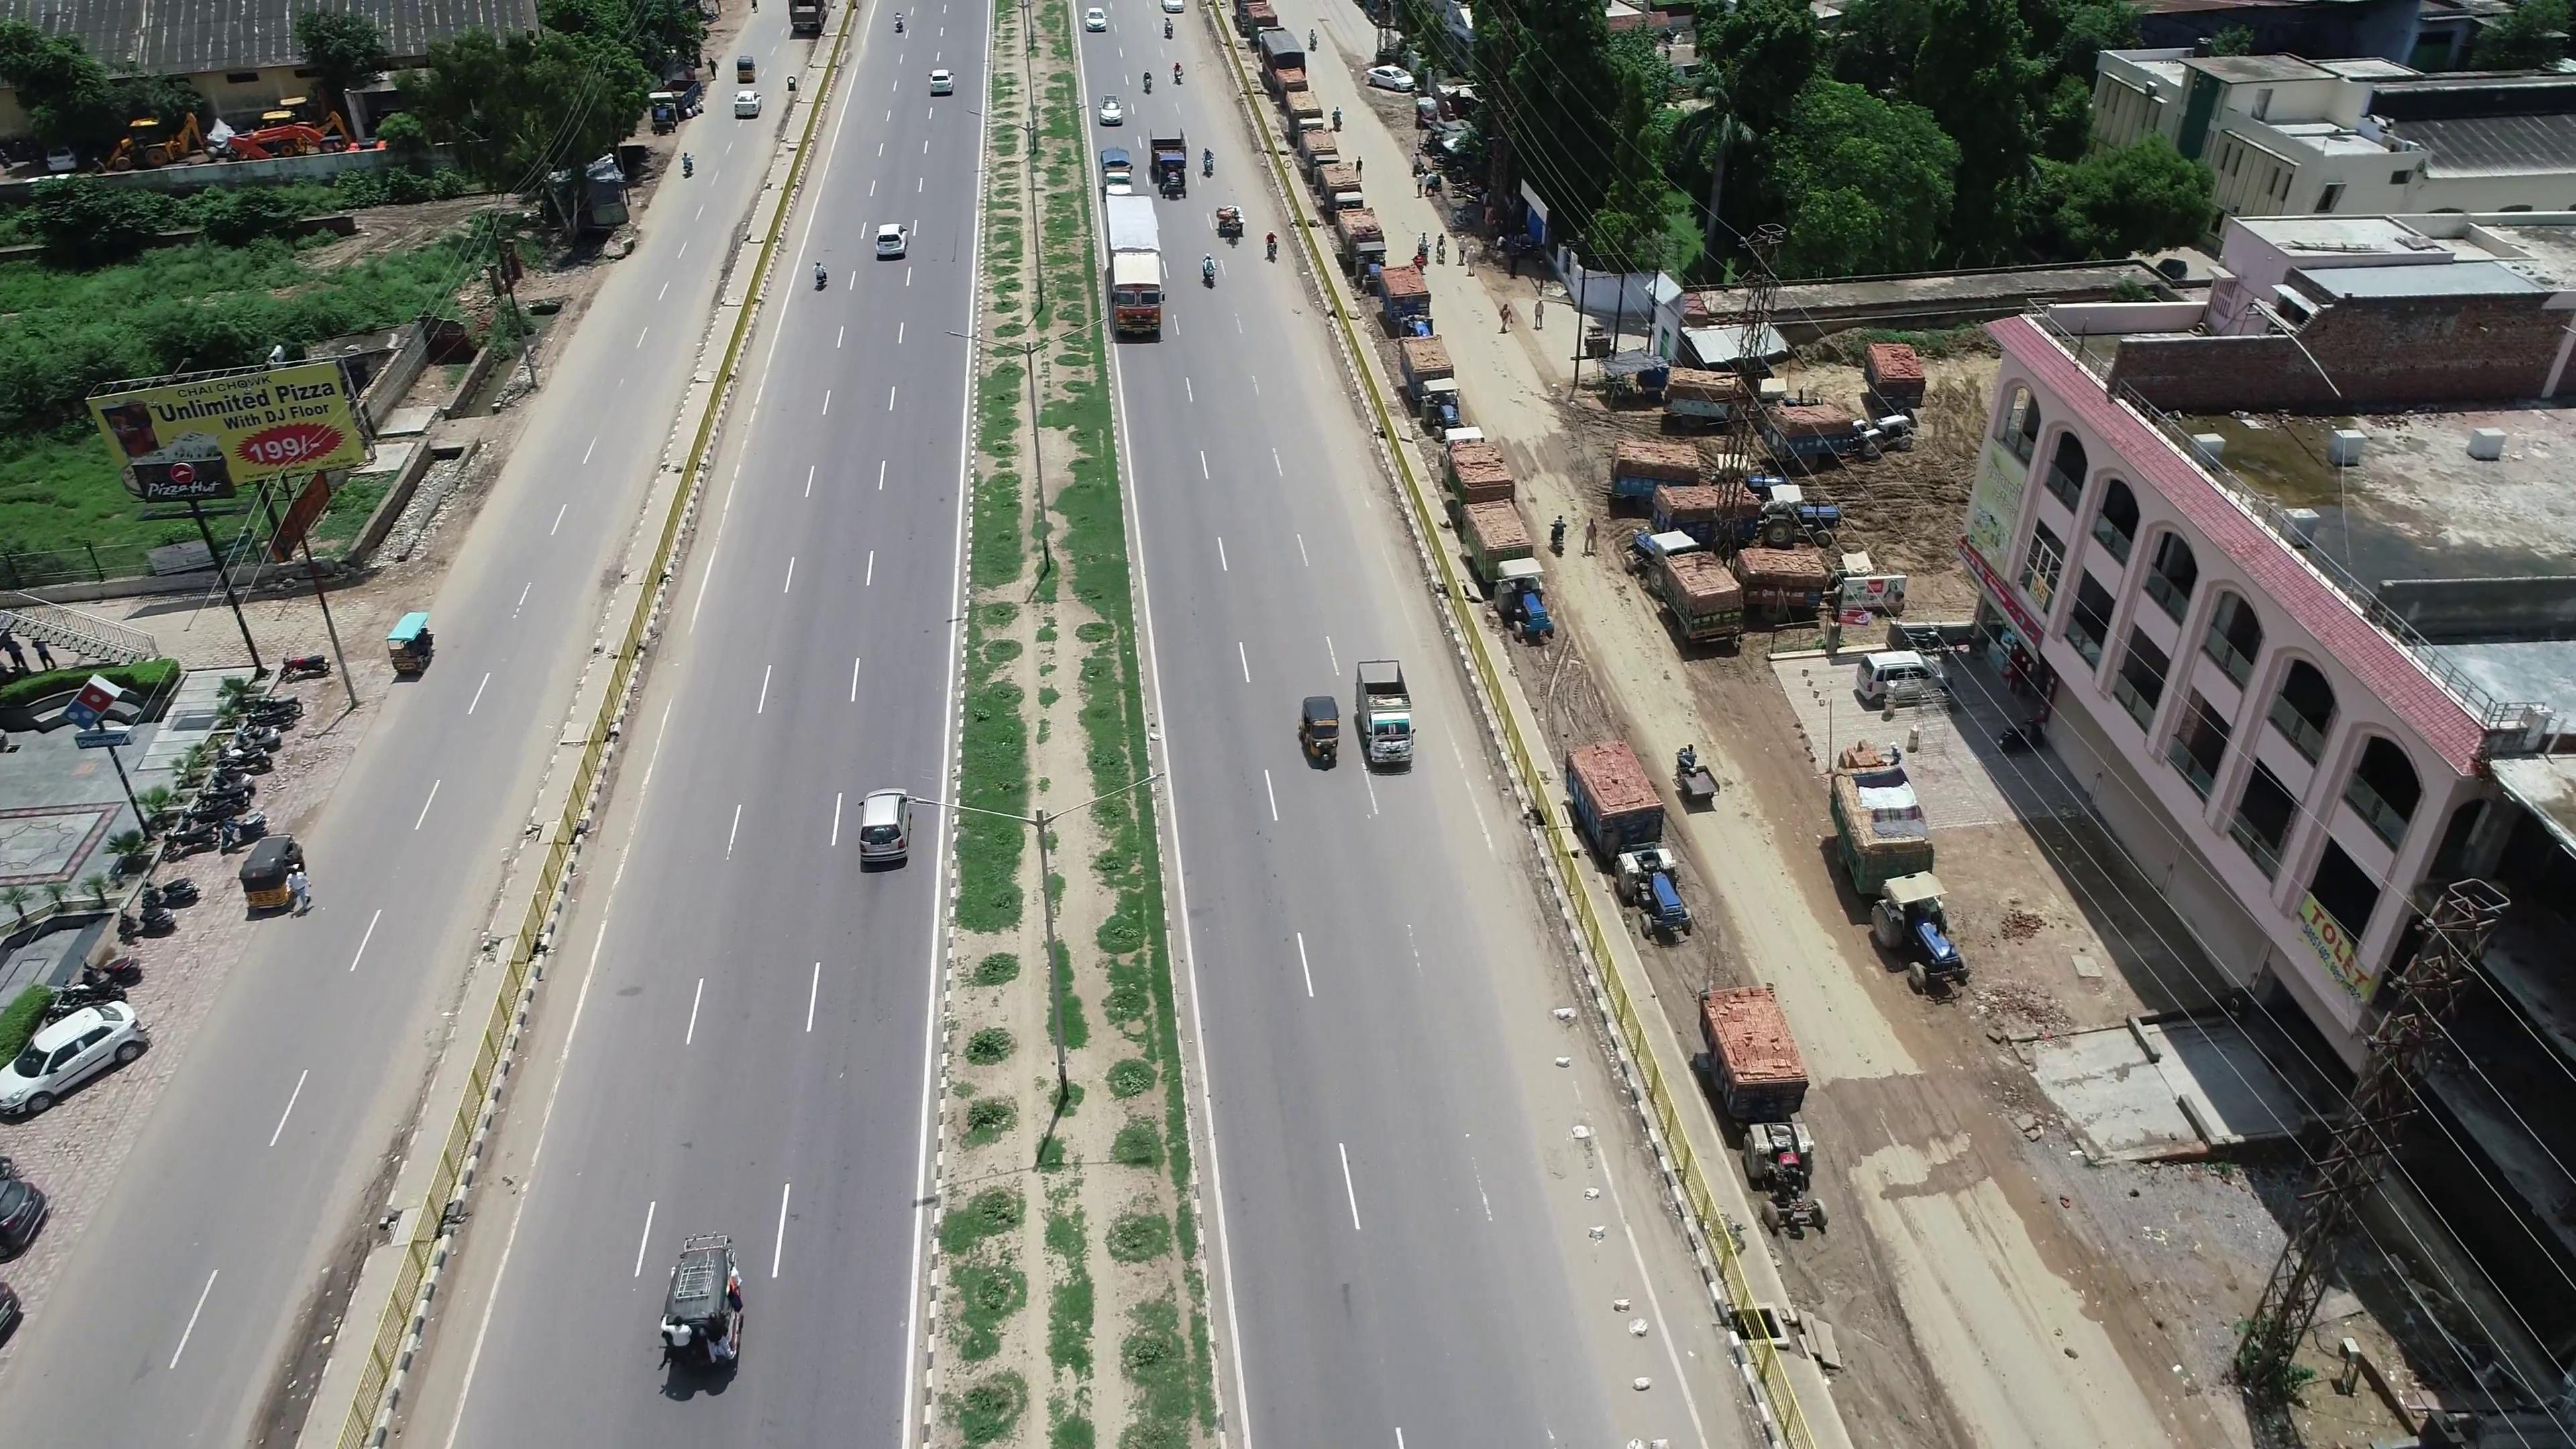Muddy_road: (1787, 1251, 1943, 1444), (1530, 646, 1606, 734)
